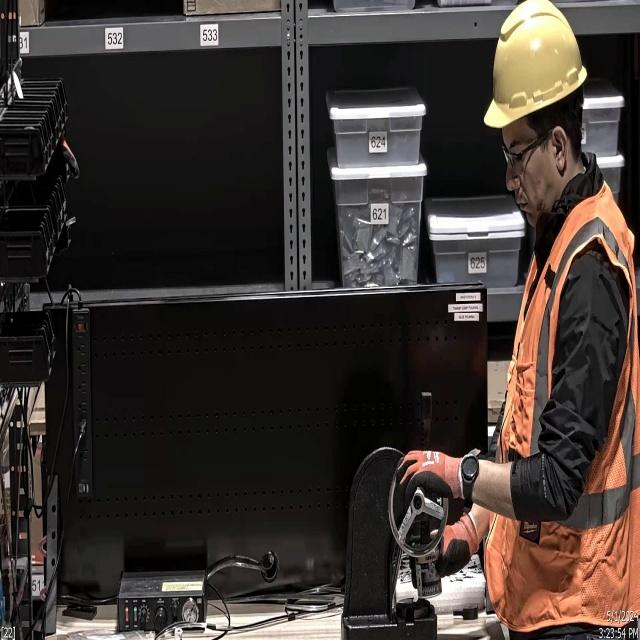gloves: (394, 446, 469, 509), (429, 512, 480, 590)
